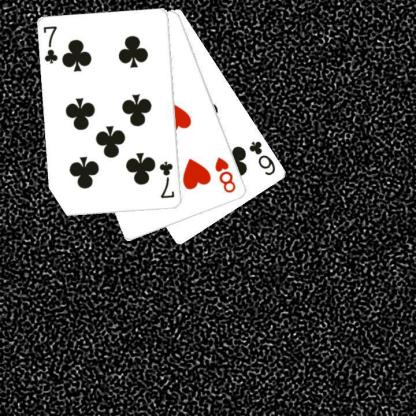6C: (247, 138, 277, 177)
7C: (41, 23, 60, 65), (157, 159, 176, 200)
8H: (212, 154, 237, 195)
